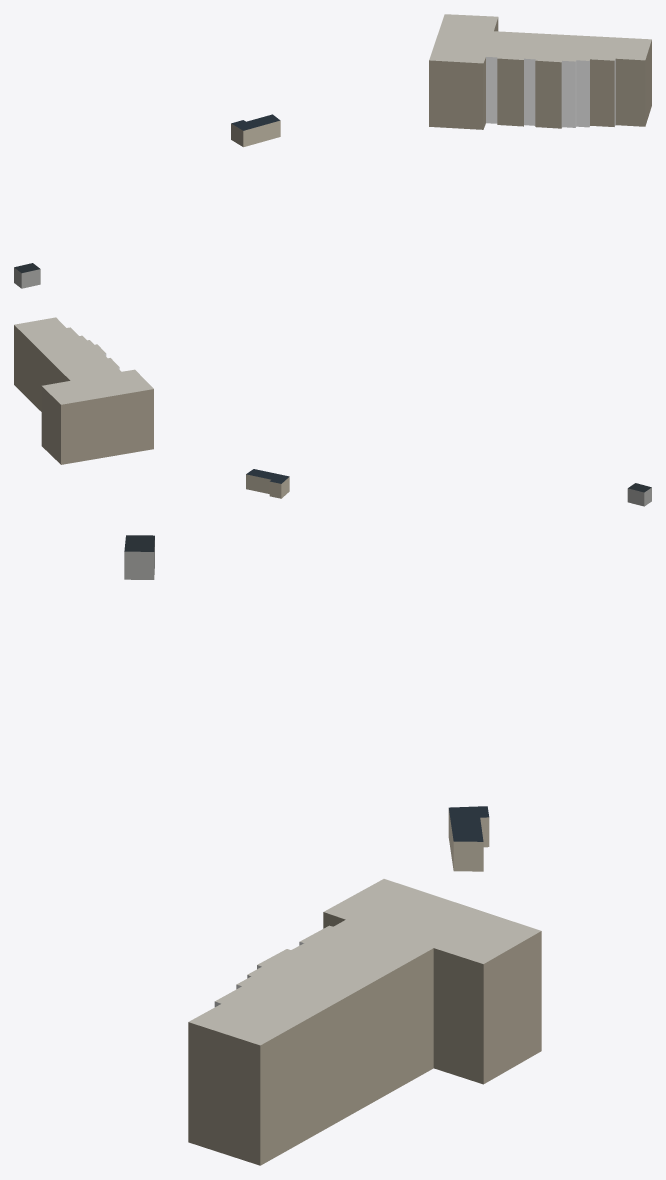
3 views of the same model, one above another, from view 1: azimuth 30°, elevation 25°; view 2: azimuth 150°, elevation 25°; view 3: azimuth 270°, elevation 25° (orthographic). The views are drawn at different scales.
Parts seen in each view (by area): view 1: tuile; view 2: tuile; view 3: tuile.
Part boxes in pixels (x1,y1,x2,y2): tuile: (14, 14, 651, 288); tuile: (14, 317, 651, 506); tuile: (124, 535, 541, 1165).
Bounding box in the file's own units: 168 × 16 × 50.3.
